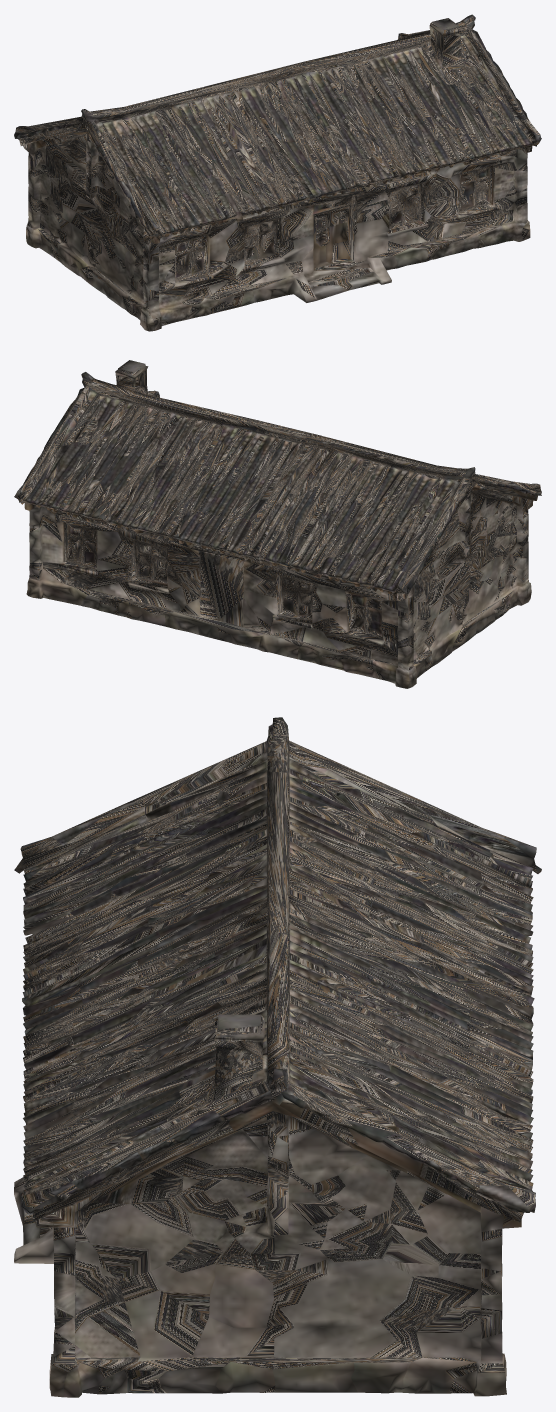
Rendered from bq_house_stone.lod.glb.
3 views of the same model, one above another, from view 1: azimuth 30°, elevation 25°; view 2: azimuth 150°, elevation 25°; view 3: azimuth 270°, elevation 25° (orthographic). The views are drawn at different scales.
Size of the model in its own units: 1.9 by 0.8575 by 1.19.
Materials: 1 (1 with a texture image).
